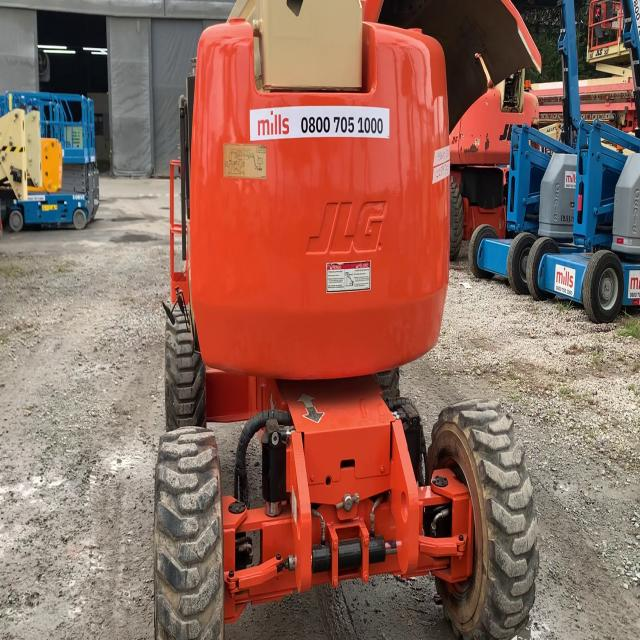Adesivo Longo: (247, 102, 394, 150)
